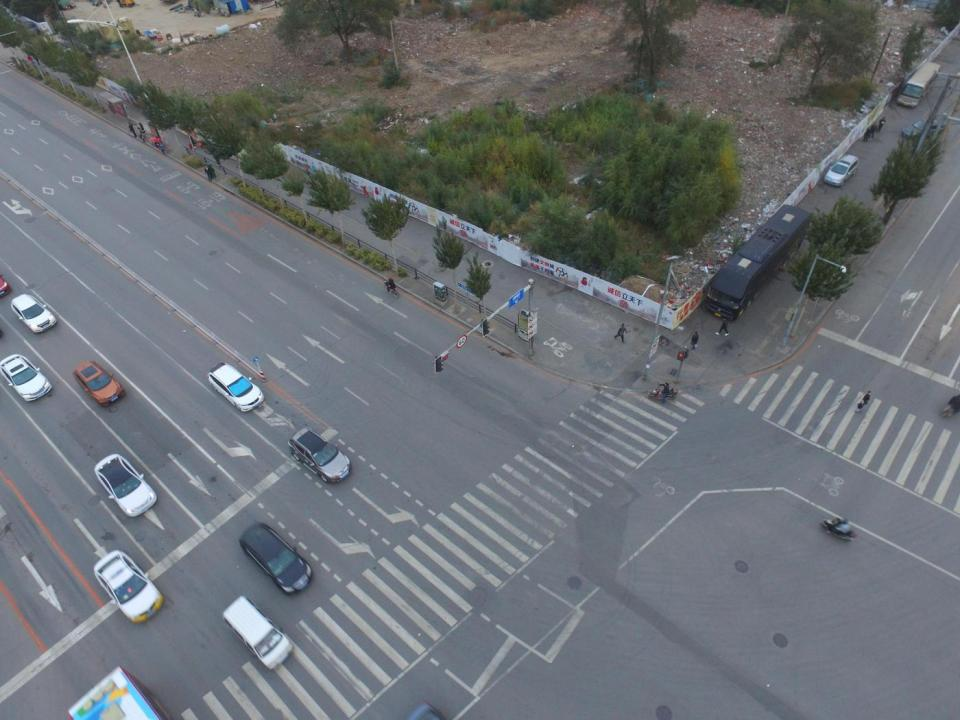bus: (67, 669, 174, 719)
car: (237, 523, 315, 593), (94, 552, 165, 626), (92, 454, 157, 516), (289, 426, 351, 485), (207, 362, 267, 411), (0, 354, 56, 402), (75, 359, 127, 408), (8, 293, 56, 333), (826, 153, 859, 188), (902, 117, 945, 139)
truck: (706, 202, 814, 321)
van: (220, 595, 298, 671), (897, 61, 942, 110), (20, 20, 38, 37)
